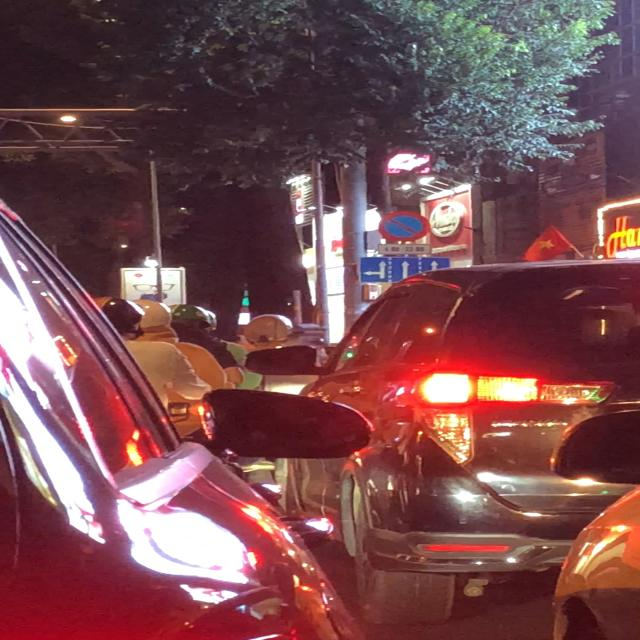Bien bao cam do xe: (372, 210, 434, 243)
